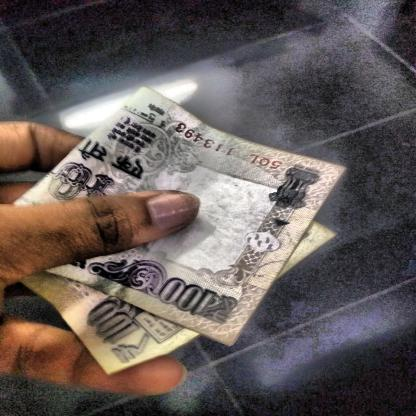Rs100: (146, 272, 248, 334)
